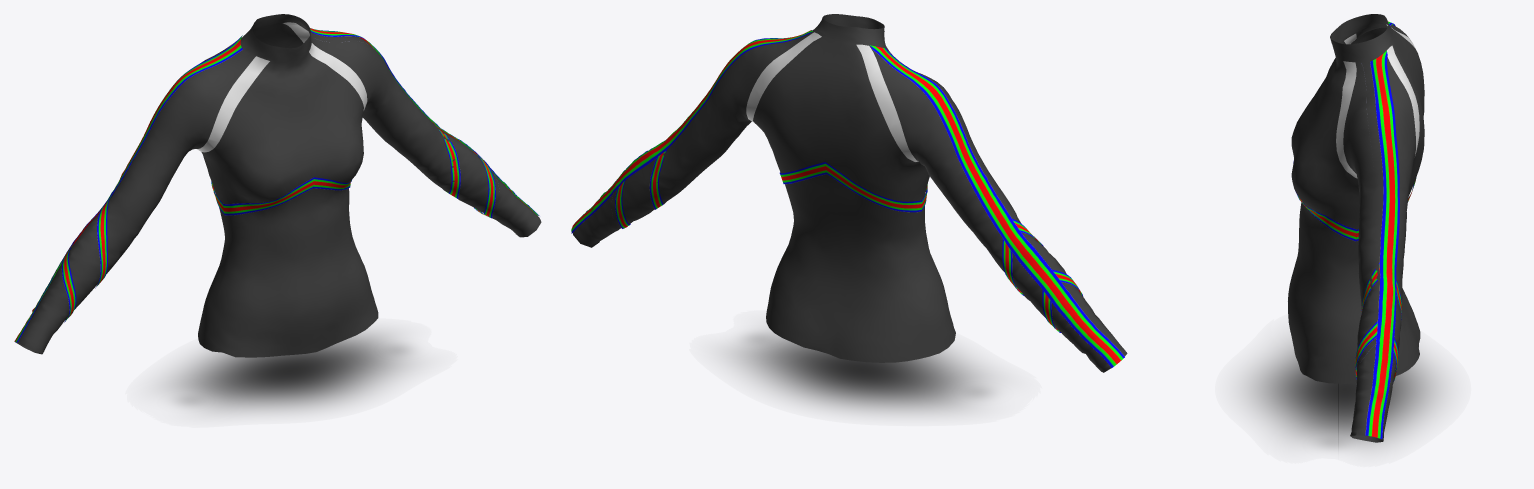
File: shirt.glb
3 views of the same model, side by side, from view 1: azimuth 30°, elevation 25°; view 2: azimuth 150°, elevation 25°; view 3: azimuth 270°, elevation 25° (orthographic). The views are drawn at different scales.
Parts seen in each view (by area): view 1: Bronwyn_shirt_changeable_group_01_front, Bronwyn_shirt_changeable_group_03_sleeves, shadow_shirt, Bronwyn_shirt_changeable_group_02_shoulders, Bronwyn_shirt_braid_02_arms, Bronwyn_shirt_changeable_group_05_back, Bronwyn_shirt_changeable_group_04_collar, Bronwyn_shirt_braid_01_chest, Bronwyn_shirt_braid_05_rightB, Bronwyn_shirt_braid_04_leftB; view 2: Bronwyn_shirt_changeable_group_05_back, Bronwyn_shirt_changeable_group_03_sleeves, shadow_shirt, Bronwyn_shirt_braid_02_arms, Bronwyn_shirt_changeable_group_06_cutout, Bronwyn_shirt_changeable_group_02_shoulders, Bronwyn_shirt_changeable_group_04_collar, Bronwyn_shirt_braid_01_chest, Bronwyn_shirt_changeable_group_01_front; view 3: Bronwyn_shirt_changeable_group_01_front, Bronwyn_shirt_changeable_group_03_sleeves, shadow_shirt, Bronwyn_shirt_braid_02_arms, Bronwyn_shirt_changeable_group_05_back, Bronwyn_shirt_changeable_group_04_collar, Bronwyn_shirt_changeable_group_02_shoulders, Bronwyn_shirt_braid_01_chest, Bronwyn_shirt_changeable_group_06_cutout, Bronwyn_shirt_braid_03_leftA.
Part boxes in pixels (x1=…): Bronwyn_shirt_changeable_group_01_front: x1=202, y1=52, x2=378, y2=357; Bronwyn_shirt_changeable_group_03_sleeves: x1=16, y1=23, x2=541, y2=354; shadow_shirt: x1=167, y1=331, x2=410, y2=411; Bronwyn_shirt_changeable_group_02_shoulders: x1=197, y1=22, x2=367, y2=152; Bronwyn_shirt_braid_02_arms: x1=14, y1=28, x2=539, y2=342; Bronwyn_shirt_changeable_group_05_back: x1=198, y1=23, x2=303, y2=347; Bronwyn_shirt_changeable_group_04_collar: x1=241, y1=14, x2=312, y2=62; Bronwyn_shirt_braid_01_chest: x1=211, y1=177, x2=352, y2=215; Bronwyn_shirt_braid_05_rightB: x1=95, y1=198, x2=109, y2=288; Bronwyn_shirt_braid_04_leftB: x1=438, y1=129, x2=460, y2=198; Bronwyn_shirt_changeable_group_05_back: x1=753, y1=37, x2=948, y2=362; Bronwyn_shirt_changeable_group_03_sleeves: x1=573, y1=32, x2=1127, y2=372; shadow_shirt: x1=731, y1=330, x2=991, y2=412; Bronwyn_shirt_braid_02_arms: x1=571, y1=30, x2=1124, y2=367; Bronwyn_shirt_changeable_group_06_cutout: x1=810, y1=37, x2=856, y2=156; Bronwyn_shirt_changeable_group_02_shoulders: x1=746, y1=32, x2=918, y2=161; Bronwyn_shirt_changeable_group_04_collar: x1=812, y1=14, x2=886, y2=48; Bronwyn_shirt_braid_01_chest: x1=779, y1=162, x2=927, y2=212; Bronwyn_shirt_changeable_group_01_front: x1=920, y1=167, x2=955, y2=347; Bronwyn_shirt_changeable_group_01_front: x1=1288, y1=41, x2=1359, y2=383; Bronwyn_shirt_changeable_group_03_sleeves: x1=1343, y1=24, x2=1415, y2=442; shadow_shirt: x1=1246, y1=341, x2=1440, y2=449; Bronwyn_shirt_braid_02_arms: x1=1365, y1=21, x2=1399, y2=438; Bronwyn_shirt_changeable_group_05_back: x1=1349, y1=29, x2=1424, y2=375; Bronwyn_shirt_changeable_group_04_collar: x1=1330, y1=14, x2=1393, y2=63; Bronwyn_shirt_changeable_group_02_shoulders: x1=1336, y1=24, x2=1419, y2=178; Bronwyn_shirt_braid_01_chest: x1=1293, y1=160, x2=1416, y2=241; Bronwyn_shirt_changeable_group_06_cutout: x1=1392, y1=29, x2=1422, y2=111; Bronwyn_shirt_braid_03_leftA: x1=1355, y1=321, x2=1398, y2=381.
Bounding box in the file's own units: 1.08 × 0.6733 × 0.6047.
Materials: 13 (7 with a texture image).
